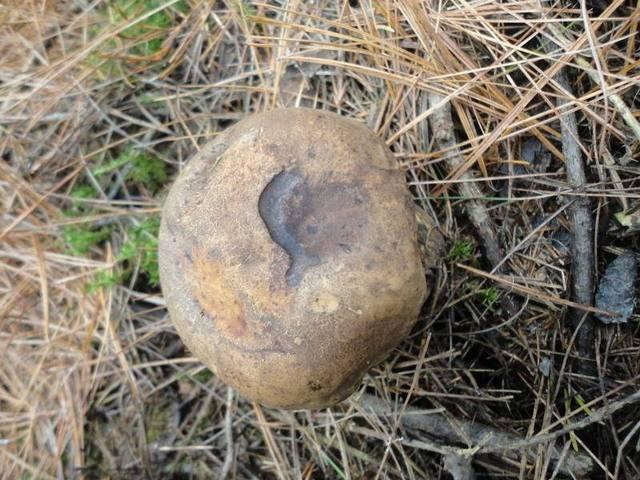Non-edible Mushroom: (155, 105, 432, 412)
